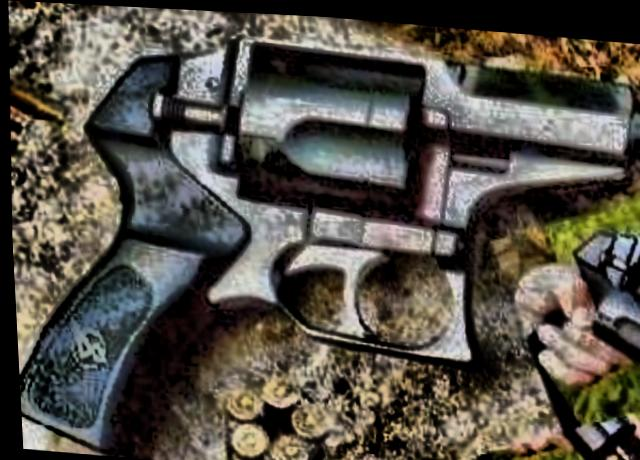pistol: (0, 11, 640, 460)
